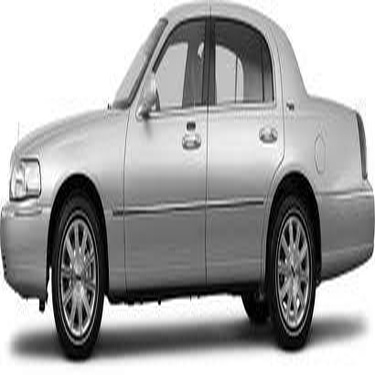car: (1, 1, 364, 344)
